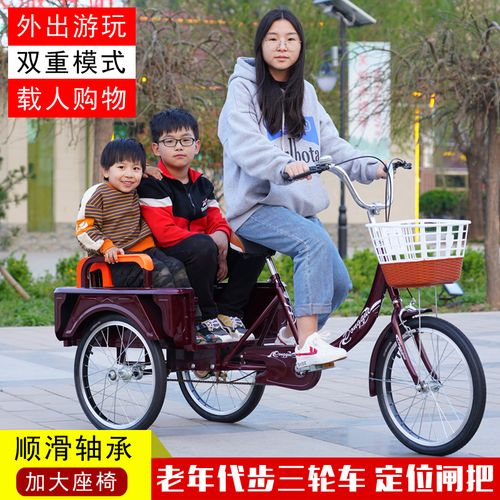driver: (222, 11, 385, 376)
overloading: (21, 12, 500, 457)
passenger: (47, 112, 148, 384), (145, 103, 235, 355)
